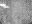person: (1, 3, 8, 10)
